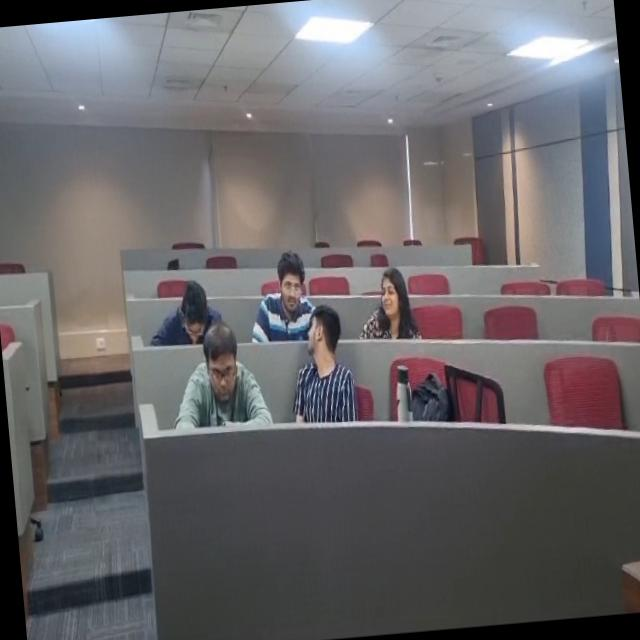cheating: (234, 241, 324, 341), (288, 301, 361, 424), (348, 252, 423, 342), (147, 275, 227, 346)
non-cheating: (177, 314, 271, 433)
